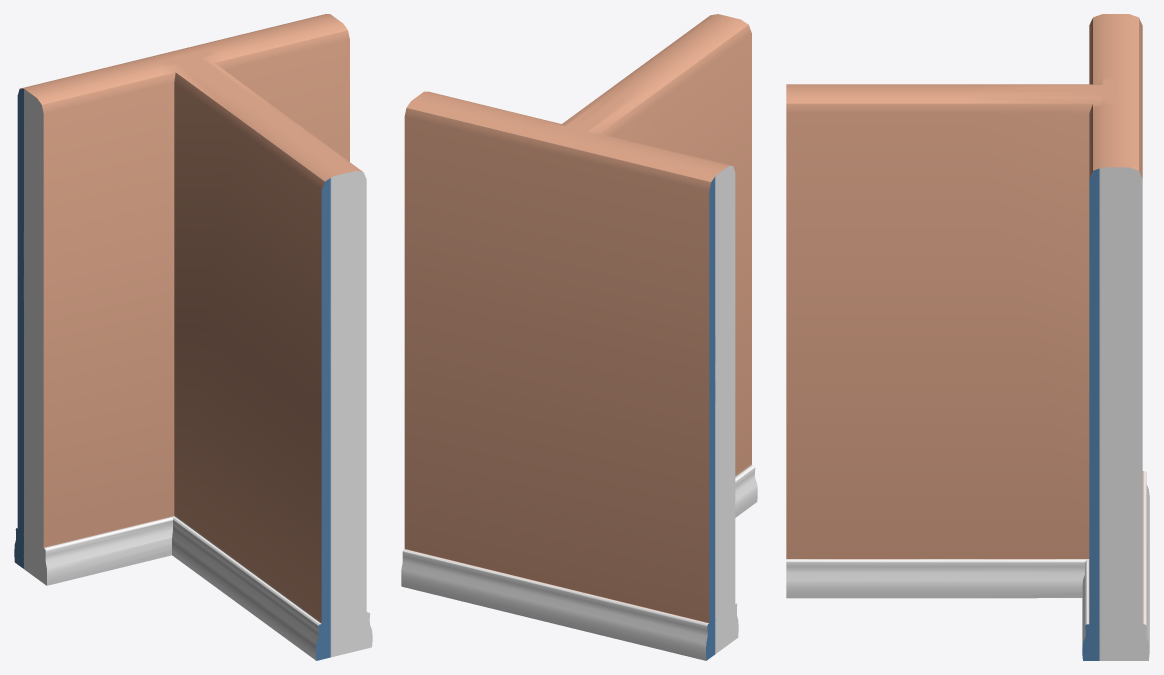
File: Wall_inner_T_02.fbx
3 views of the same model, side by side, from view 1: azimuth 30°, elevation 25°; view 2: azimuth 150°, elevation 25°; view 3: azimuth 270°, elevation 25° (orthographic). The views are drawn at different scales.
Visible parts, largest first — view 1: InnerWall_T_00.001; view 2: InnerWall_T_00.001; view 3: InnerWall_T_00.001.
Part boxes in pixels (x1,y1,x2,y2): InnerWall_T_00.001: [14, 14, 372, 660]; InnerWall_T_00.001: [401, 14, 757, 660]; InnerWall_T_00.001: [786, 14, 1149, 660].
Bounding box in the file's own units: 99.99 × 150 × 99.99.
